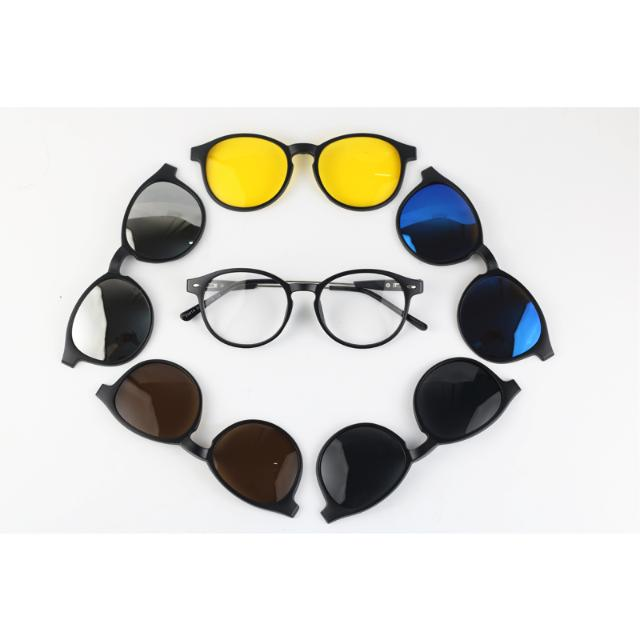Sunglasses: (374, 151, 566, 381), (314, 334, 530, 528), (82, 350, 310, 532), (42, 157, 208, 373), (187, 128, 425, 222)
glasses: (180, 246, 432, 360)
